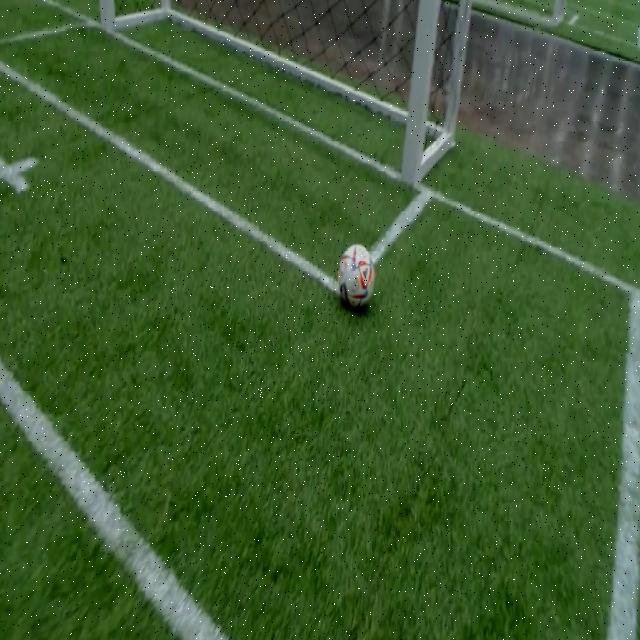ball: (337, 244, 375, 308)
goalpost: (398, 107, 429, 194), (96, 0, 119, 37)
